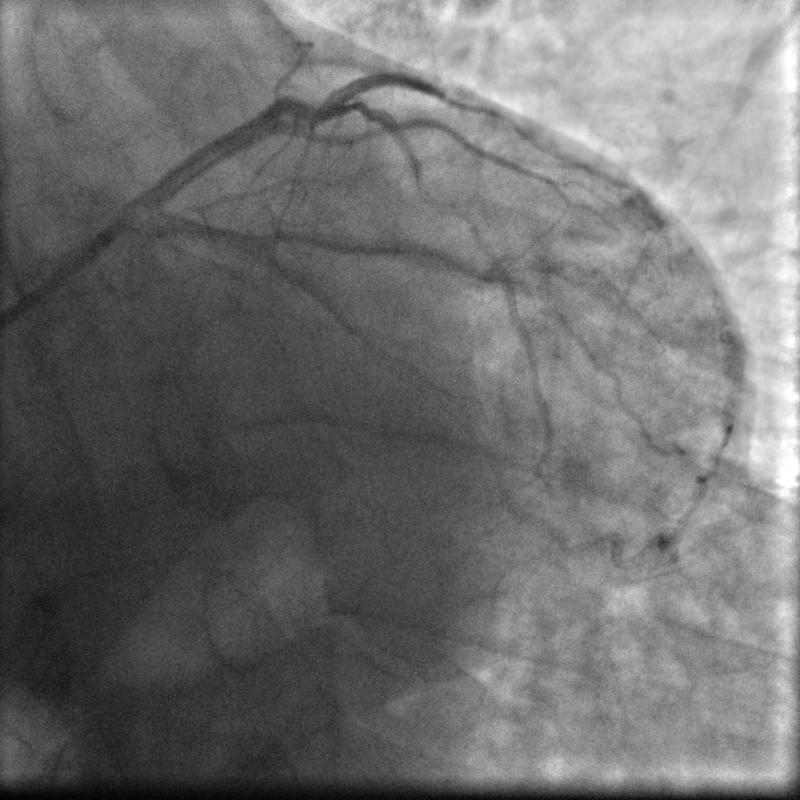Stenosis: (352, 322, 379, 352)
